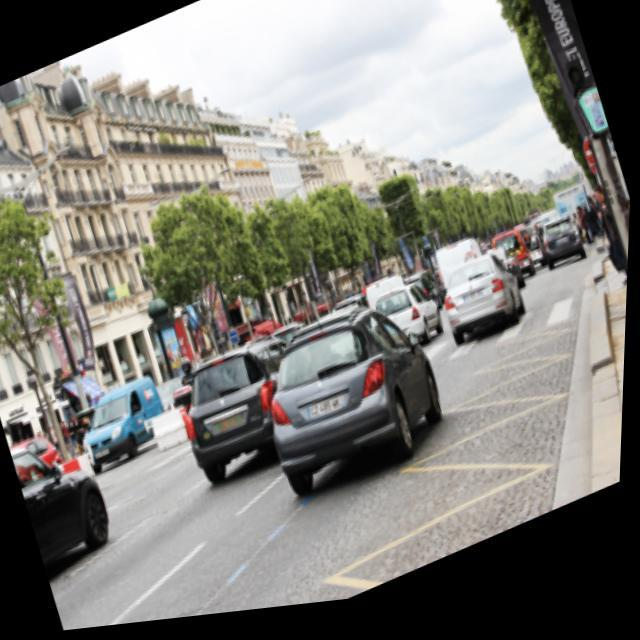license_plate: (306, 392, 354, 432)
